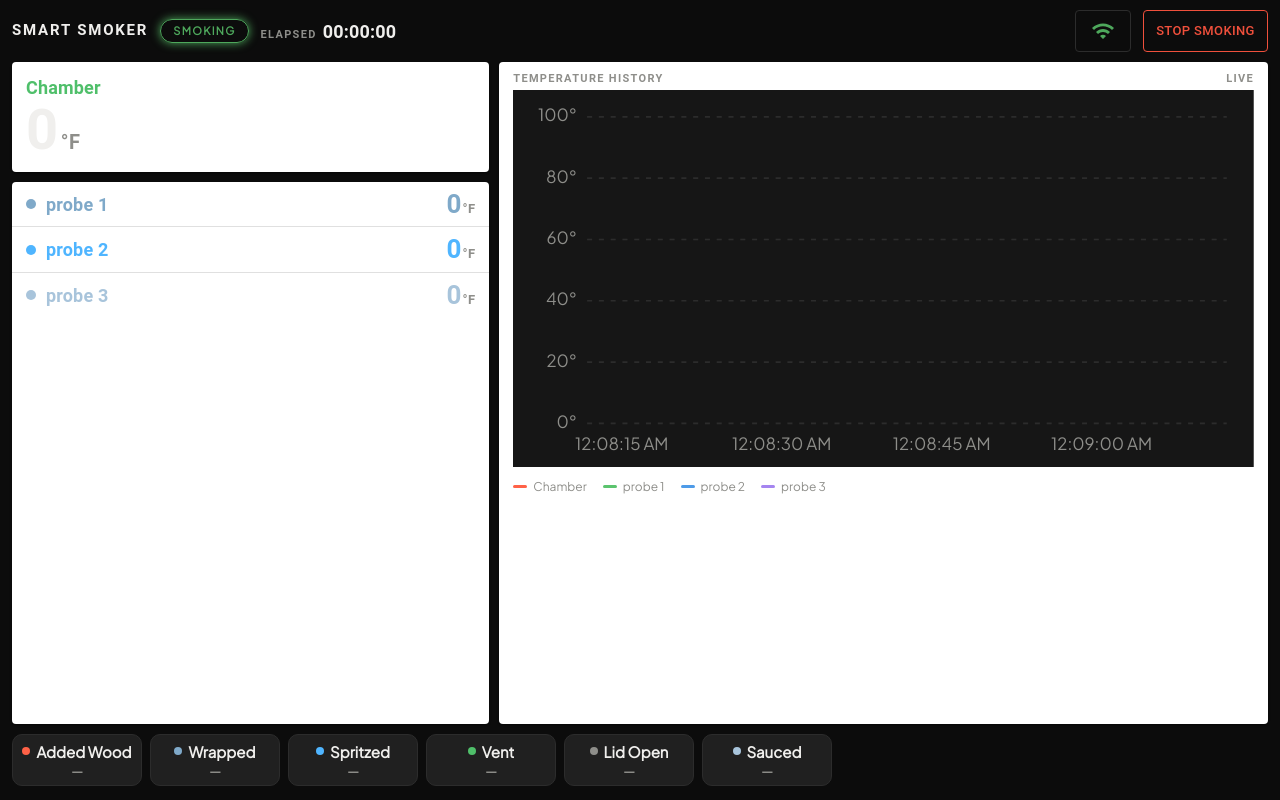
Test: the stamp bar under the chart › logs a tap against the running cook and prints when it went in
The image size is (1280, 800).
Click the button with test id "smoker-stamp-wood" at coordinates (77, 760), box [12, 734, 142, 786]
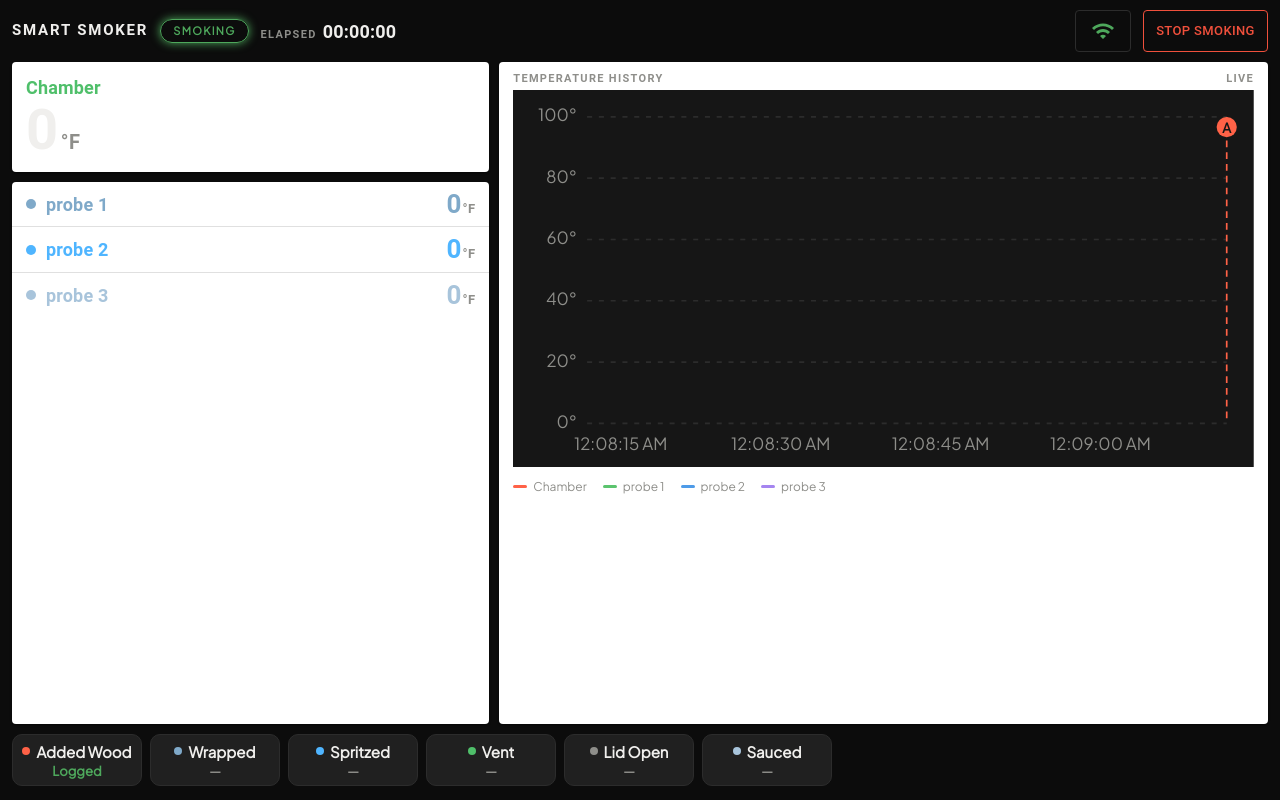
Now the button with test id "smoker-stamp-wood" shows "Logged", box [12, 734, 142, 786]
